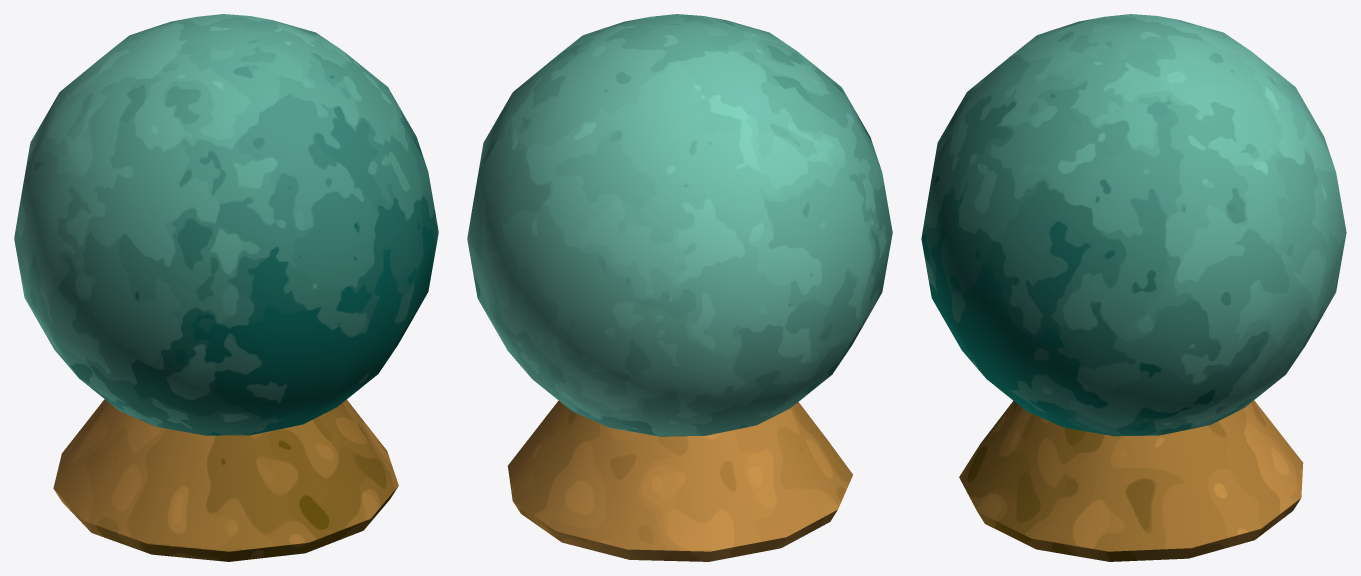
The model's file is kure.fbx.
3 views of the same model, side by side, from view 1: azimuth 30°, elevation 25°; view 2: azimuth 150°, elevation 25°; view 3: azimuth 270°, elevation 25° (orthographic).
Parts seen in each view (by area): view 1: Sphere.001; view 2: Sphere.001; view 3: Sphere.001.
Part boxes in pixels (left/top/right/bottom): Sphere.001: left=14, top=14, right=438, bottom=561; Sphere.001: left=467, top=14, right=892, bottom=561; Sphere.001: left=921, top=14, right=1346, bottom=561.
Size of the model in its own units: 0.5515 by 0.6599 by 0.5525.
1 material, 1 textured.
